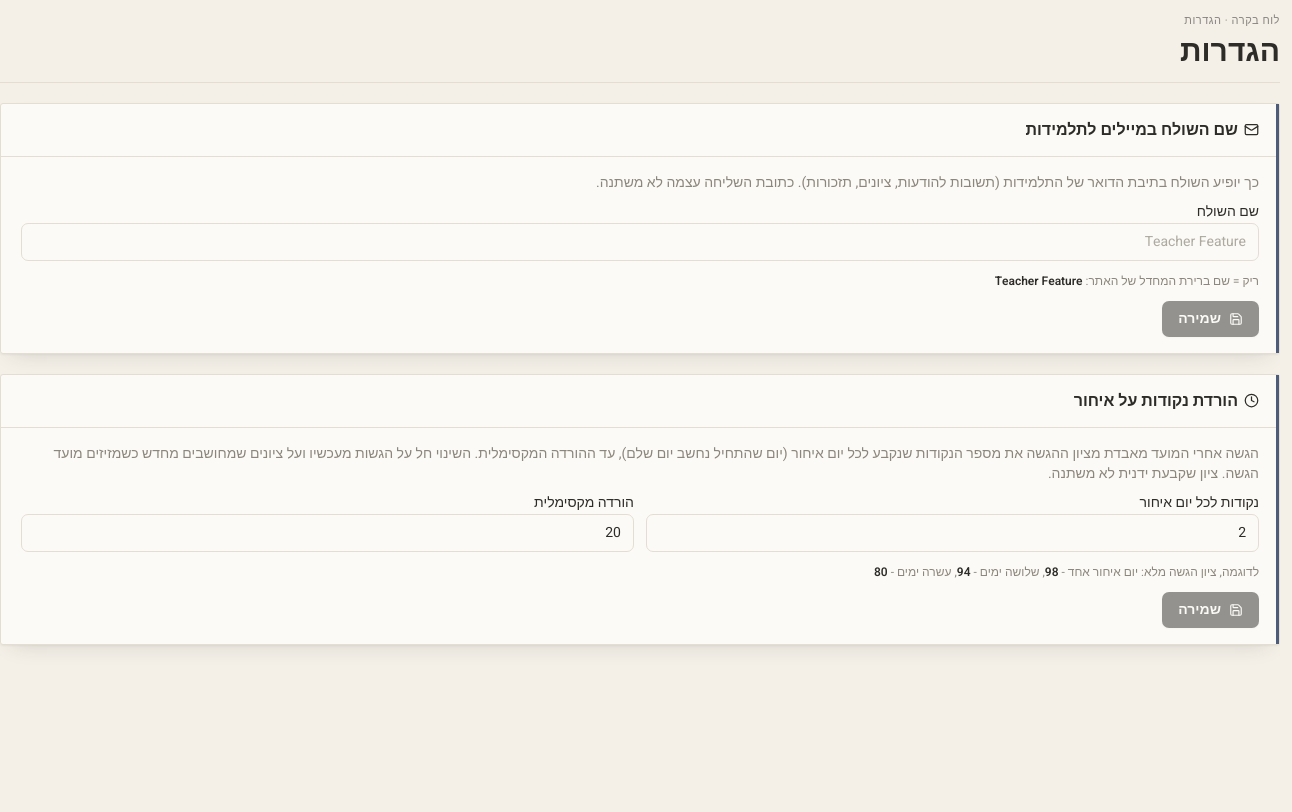
Teacher settings - the email sender name › saves the name she writes
Type "TeacherFeature - המורה עדי שלום" into the field labelled "שם השולח" at [640, 242], box top-left (21, 223), bottom-right (1259, 261)
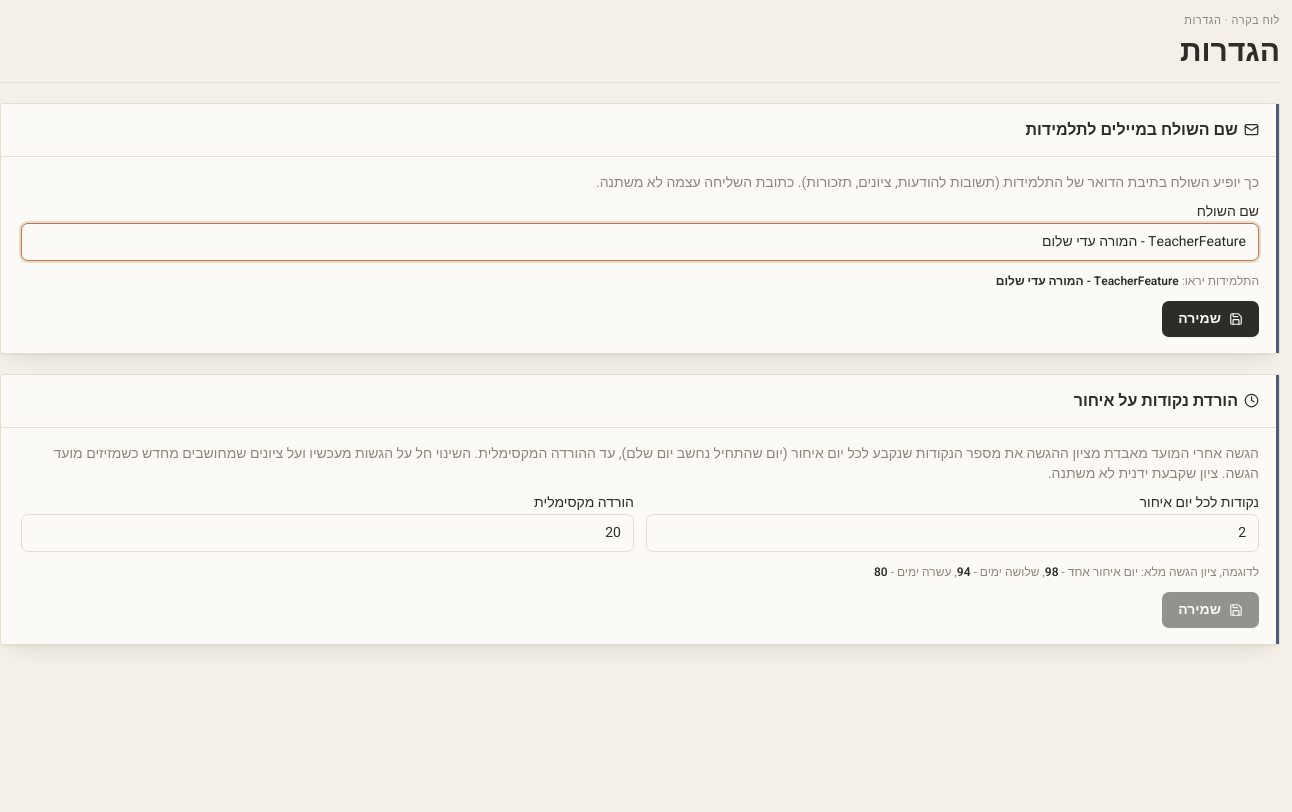
Click the button "שמירה" below "התלמידות יראו:" at [1211, 319], box top-left (1162, 301), bottom-right (1259, 337)
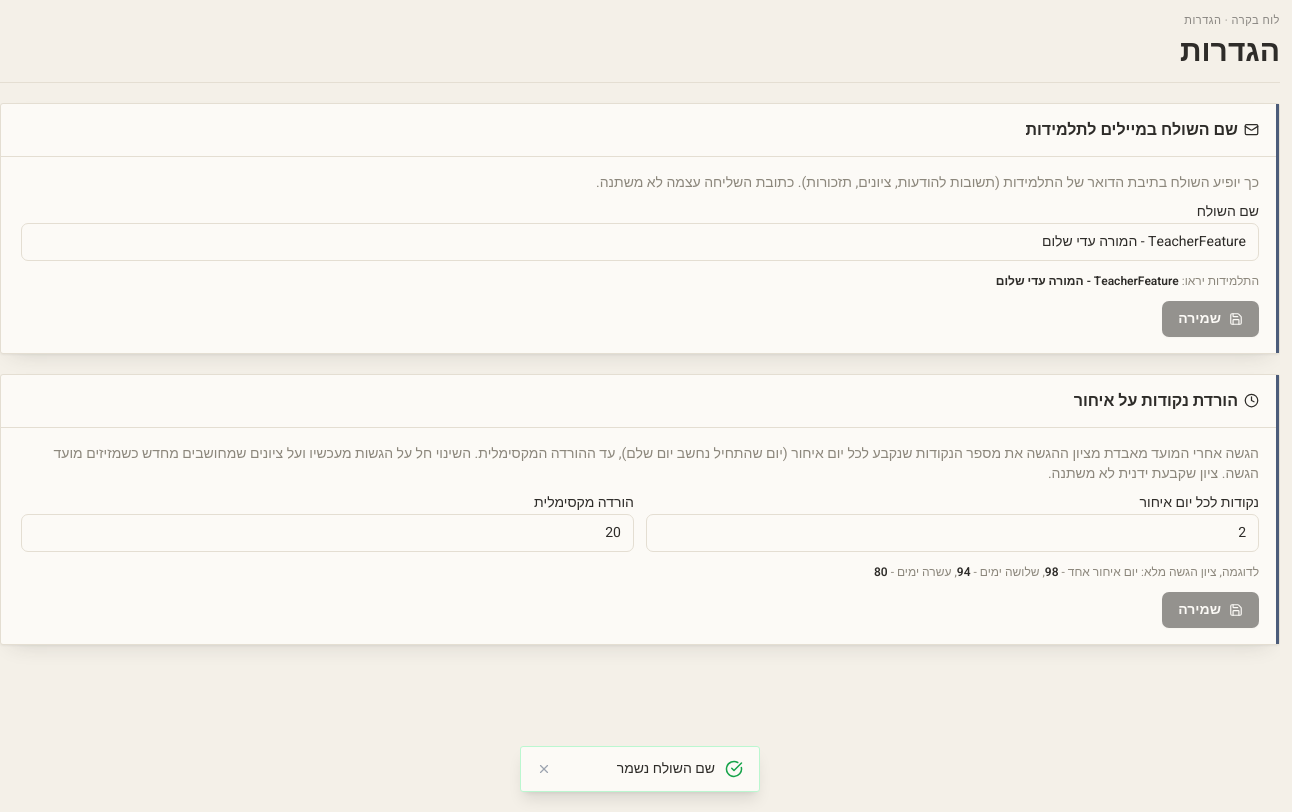
Now the text "שם השולח נשמר" is shown, box top-left (617, 758), bottom-right (715, 779)
